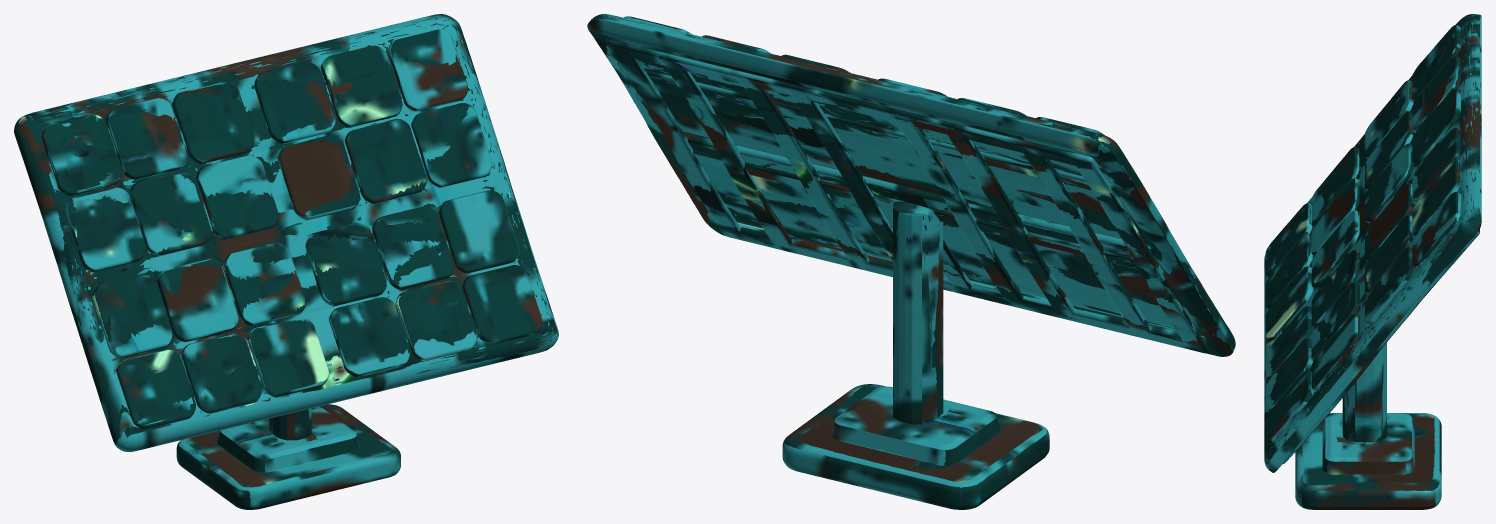
The model's file is soraseal.fbx.
3 renders of one model, left to right at view 1: azimuth 30°, elevation 25°; view 2: azimuth 150°, elevation 25°; view 3: azimuth 270°, elevation 25°, orthographic. The views are drawn at different scales.
Visible parts, largest first — view 1: texture_pbr_v128; view 2: texture_pbr_v128; view 3: texture_pbr_v128.
Boxes of the visible parts, <box> form: texture_pbr_v128: <box>14,14,558,509</box>; texture_pbr_v128: <box>587,14,1235,509</box>; texture_pbr_v128: <box>1264,14,1481,509</box>.
Bounding box in the file's own units: 92.09 × 71.66 × 39.51.
